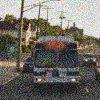buses: (29, 34, 83, 88)
